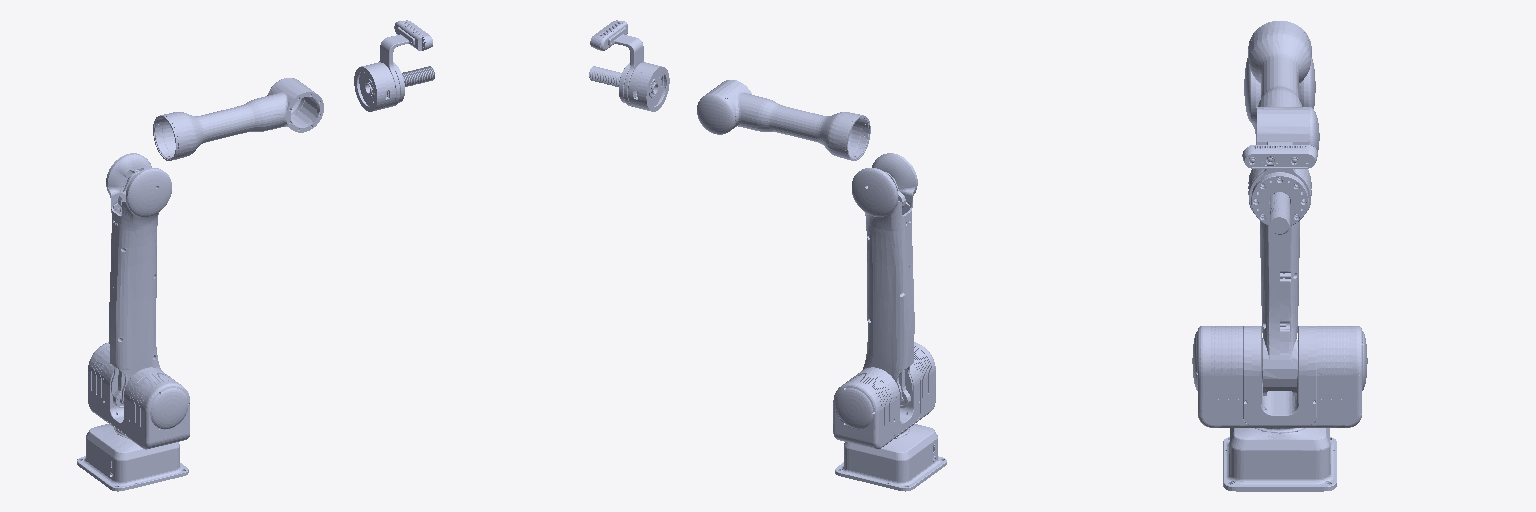
The robot description file, URDF, robot "wheel_quadruped_arm_robot":
<?xml version="1.0" ?>
<!-- =================================================================================== -->
<!-- |    This document was autogenerated by xacro from robot.xacro                    | -->
<!-- |    EDITING THIS FILE BY HAND IS NOT RECOMMENDED                                 | -->
<!-- =================================================================================== -->
<robot name="wheel_quadruped_arm_robot">
    <material name="black">
        <color rgba="0.0 0.0 0.0 1.0"/>
    </material>
    <material name="blue">
        <color rgba="0.0 0.0 0.8 1.0"/>
    </material>
    <material name="green">
        <color rgba="0.0 0.8 0.0 1.0"/>
    </material>
    <material name="grey">
        <color rgba="0.2 0.2 0.2 1.0"/>
    </material>
    <material name="silver">
        <color rgba="0.9137254901960784 0.9137254901960784 0.8470588235294118 1.0"/>
    </material>
    <material name="orange">
        <color rgba="1.0 0.4235294117647059 0.0392156862745098 1.0"/>
    </material>
    <material name="brown">
        <color rgba="0.8705882352941177 0.8117647058823529 0.7647058823529411 1.0"/>
    </material>
    <material name="red">
        <color rgba="0.8 0.0 0.0 1.0"/>
    </material>
    <material name="white">
        <color rgba="1.0 1.0 1.0 1.0"/>
    </material>
    <!-- ros_control plugin -->
    <gazebo>
        <plugin filename="liblegged_hw_sim.so" name="gazebo_ros_control">
            <robotNamespace>/</robotNamespace>
            <robotParam>wheel_quadruped_arm_robot_description</robotParam>
            <robotSimType>legged_gazebo/LeggedHWSim</robotSimType>
        </plugin>
    </gazebo>
    <gazebo>
        <plugin filename="libgazebo_ros_p3d.so" name="p3d_base_controller">
            <alwaysOn>true</alwaysOn>
            <updateRate>1000.0</updateRate>
            <bodyName>base</bodyName>
            <topicName>Odometry</topicName>
            <gaussianNoise>0</gaussianNoise>
            <frameName>world</frameName>
            <xyzOffsets>0 0 0</xyzOffsets>
            <rpyOffsets>0 0 0</rpyOffsets>
        </plugin>
    </gazebo>
    <gazebo reference="base_link">
        <maxVel>100.</maxVel>
        <kp>10000.</kp>
        <kd>0.</kd>
    </gazebo>
    <gazebo reference="stick_link">
        <mu1>0.2</mu1>
        <mu2>0.2</mu2>
        <material>Gazebo/White</material>
    </gazebo>
    <!-- LF leg -->
    <gazebo reference="LF_hip">
        <mu1>0.2</mu1>
        <mu2>0.2</mu2>
        <material>Gazebo/DarkGrey</material>
    </gazebo>
    <gazebo reference="LF_thigh">
        <mu1>0.2</mu1>
        <mu2>0.2</mu2>
        <self_collide>0</self_collide>
        <material>Gazebo/DarkGrey</material>
        <kp value="1000000.0"/>
        <kd value="1.0"/>
    </gazebo>
    <gazebo reference="LF_calf">
        <mu1>0.2</mu1>
        <mu2>0.2</mu2>
        <self_collide>1</self_collide>
    </gazebo>
    <gazebo reference="LF_wheel">
        <mu1>0.6</mu1>
        <mu2>0.6</mu2>
        <self_collide>1</self_collide>
        <material>Gazebo/DarkGrey</material>
        <kp value="1000000.0"/>
        <kd value="1.0"/>
    </gazebo>
    <!-- RF leg -->
    <gazebo reference="RF_hip">
        <mu1>0.2</mu1>
        <mu2>0.2</mu2>
        <material>Gazebo/DarkGrey</material>
    </gazebo>
    <gazebo reference="RF_thigh">
        <mu1>0.2</mu1>
        <mu2>0.2</mu2>
        <self_collide>0</self_collide>
        <material>Gazebo/DarkGrey</material>
        <kp value="1000000.0"/>
        <kd value="1.0"/>
    </gazebo>
    <gazebo reference="RF_calf">
        <mu1>0.2</mu1>
        <mu2>0.2</mu2>
        <self_collide>1</self_collide>
    </gazebo>
    <gazebo reference="RF_wheel">
        <mu1>0.6</mu1>
        <mu2>0.6</mu2>
        <self_collide>1</self_collide>
        <material>Gazebo/DarkGrey</material>
        <kp value="1000000.0"/>
        <kd value="1.0"/>
    </gazebo>
    <!-- LH leg -->
    <gazebo reference="LH_hip">
        <mu1>0.2</mu1>
        <mu2>0.2</mu2>
        <material>Gazebo/DarkGrey</material>
    </gazebo>
    <gazebo reference="LH_thigh">
        <mu1>0.2</mu1>
        <mu2>0.2</mu2>
        <self_collide>0</self_collide>
        <material>Gazebo/DarkGrey</material>
        <kp value="1000000.0"/>
        <kd value="1.0"/>
    </gazebo>
    <gazebo reference="LH_calf">
        <mu1>0.2</mu1>
        <mu2>0.2</mu2>
        <self_collide>1</self_collide>
    </gazebo>
    <gazebo reference="LH_wheel">
        <mu1>0.6</mu1>
        <mu2>0.6</mu2>
        <self_collide>1</self_collide>
        <material>Gazebo/DarkGrey</material>
        <kp value="1000000.0"/>
        <kd value="1.0"/>
    </gazebo>
    <!-- RH leg -->
    <gazebo reference="RH_hip">
        <mu1>0.2</mu1>
        <mu2>0.2</mu2>
        <material>Gazebo/DarkGrey</material>
    </gazebo>
    <gazebo reference="RH_thigh">
        <mu1>0.2</mu1>
        <mu2>0.2</mu2>
        <self_collide>0</self_collide>
        <material>Gazebo/DarkGrey</material>
        <kp value="1000000.0"/>
        <kd value="1.0"/>
    </gazebo>
    <gazebo reference="RH_calf">
        <mu1>0.2</mu1>
        <mu2>0.2</mu2>
        <self_collide>1</self_collide>
    </gazebo>
    <gazebo reference="RH_wheel">
        <mu1>0.6</mu1>
        <mu2>0.6</mu2>
        <self_collide>1</self_collide>
        <material>Gazebo/DarkGrey</material>
        <kp value="1000000.0"/>
        <kd value="1.0"/>
    </gazebo>
    <!-- limx arm -->
    <gazebo reference="limx_arm">
        <mu1>0.2</mu1>
        <mu2>0.2</mu2>
        <self_collide>1</self_collide>
        <material>Gazebo/DarkGrey</material>
    </gazebo>
    <gazebo reference="L1">
        <mu1>0.2</mu1>
        <mu2>0.2</mu2>
        <self_collide>1</self_collide>
        <material>Gazebo/DarkGrey</material>
    </gazebo>
    <gazebo reference="L2">
        <mu1>0.2</mu1>
        <mu2>0.2</mu2>
        <material>Gazebo/DarkGrey</material>
        <self_collide>1</self_collide>
    </gazebo>
    <gazebo reference="L3">
        <mu1>0.2</mu1>
        <mu2>0.2</mu2>
        <self_collide>1</self_collide>
        <material>Gazebo/DarkGrey</material>
    </gazebo>
    <gazebo reference="L4">
        <mu1>0.2</mu1>
        <mu2>0.2</mu2>
        <self_collide>1</self_collide>
        <material>Gazebo/DarkGrey</material>
    </gazebo>
    <gazebo reference="L5">
        <mu1>0.2</mu1>
        <mu2>0.2</mu2>
        <self_collide>1</self_collide>
        <material>Gazebo/DarkGrey</material>
    </gazebo>
    <gazebo reference="L6">
        <mu1>0.2</mu1>
        <mu2>0.2</mu2>
        <self_collide>1</self_collide>
        <material>Gazebo/DarkGrey</material>
    </gazebo>

    <!-- <link name="fixed_world"/>
    <joint name="fixed_base" type="fixed">
        <parent link="fixed_world"/>
        <child link="base"/>
        <origin rpy="0 0 0" xyz="0 0 0.5"/>
    </joint> -->

    <link name="base">
        <visual>
            <origin rpy="0 0 0" xyz="-0.0455 0 -0.07551"/>
            <geometry>
                <mesh filename="../meshes/wheel_quadruped/base_link.STL"
                      scale="1 1 1"/>
            </geometry>
            <material name="orange">
                <color rgba="0.752941176470588 0.752941176470588 0.752941176470588 1"/>
            </material>
        </visual>
        <collision>
            <origin rpy="0 0 0" xyz="-0.0455 0 -0.07551"/>
            <geometry>
                <box size="0.515 0.2635 0.151"/>
            </geometry>
        </collision>
        <inertial>
            <origin rpy="0 0 0" xyz="-0.042248 0.000914 -0.089046"/>
            <mass value="20.597"/>
            <inertia ixx="0.149401525" ixy="-0.000608481" ixz="0.011793831" iyy="0.735245026" iyz="-3.821e-06"
                     izz="0.770371789"/>
        </inertial>
    </link>
    <!-- Imu is fixed to the base link -->
    <joint name="limx_imu_joint" type="fixed">
        <origin rpy="0. 0. 0." xyz="0. 0. 0."/>
        <parent link="base"/>
        <child link="limx_imu"/>
    </joint>
    <!-- Imu link -->
    <link name="limx_imu">
        <inertial>
            <mass value="0.01"/>
            <origin rpy="0 0 0" xyz="0 0 0"/>
            <inertia ixx="0.000001" ixy="0" ixz="0" iyy="0.000001" iyz="0" izz="0.000001"/>
        </inertial>
        <visual>
            <origin rpy="0 0 0" xyz="0 0 0"/>
            <geometry>
                <box size="0.015 0.015 0.004"/>
            </geometry>
        </visual>
        <material name="orange">
            <color rgba="255 108 10 255"/>
        </material>
    </link>
    <gazebo reference="limx_imu">
        <material>Gazebo/Orange</material>
    </gazebo>
    <gazebo reference="limx_imu_joint">
        <disableFixedJointLumping>true</disableFixedJointLumping>
    </gazebo>

    <joint name="support_joint1" type="fixed">
        <origin rpy="0. 0. 0." xyz="0.15 0.1 -0.3"/>
        <parent link="base"/>
        <child link="support1"/>
    </joint>
    <!-- &lt;!&ndash; support link &ndash;&gt; -->
    <link name="support1">
        <collision>
            <origin rpy="0 0 0" xyz="0 0 0"/>
            <geometry>
                <box size="0.015 0.015 0.004"/>
            </geometry>
        </collision>
    </link>
    <joint name="support_joint2" type="fixed">
        <origin rpy="0. 0. 0." xyz="-0.25 0.1 -0.3"/>
        <parent link="base"/>
        <child link="support2"/>
    </joint>
    <!-- &lt;!&ndash; support link &ndash;&gt; -->
    <link name="support2">
        <collision>
            <origin rpy="0 0 0" xyz="0 0 0"/>
            <geometry>
                <box size="0.015 0.015 0.004"/>
            </geometry>
        </collision>
    </link>
    <joint name="support_joint3" type="fixed">
        <origin rpy="0. 0. 0." xyz="0.15 -0.1 -0.3"/>
        <parent link="base"/>
        <child link="support3"/>
    </joint>
    <!-- &lt;!&ndash; support link &ndash;&gt; -->
    <link name="support3">
        <collision>
            <origin rpy="0 0 0" xyz="0 0 0"/>
            <geometry>
                <box size="0.015 0.015 0.004"/>
            </geometry>
        </collision>
    </link>
    <joint name="support_joint4" type="fixed">
        <origin rpy="0. 0. 0." xyz="-0.25 -0.1 -0.3"/>
        <parent link="base"/>
        <child link="support4"/>
    </joint>
    <!--    &lt;!&ndash; support link &ndash;&gt;-->
    <link name="support4">
        <collision>
            <origin rpy="0 0 0" xyz="0 0 0"/>
            <geometry>
                <box size="0.015 0.015 0.004"/>
            </geometry>
        </collision>
    </link>

    <!-- TODO -->

    <joint name="limx_arm_joint" type="fixed">
        <origin rpy="0. 0. 0." xyz="0. 0. 0.0"/>
        <parent link="base"/>
        <child link="limx_arm"/>
    </joint>
    <gazebo reference="limx_arm_joint">
        <disableFixedJointLumping>true</disableFixedJointLumping>
    </gazebo>
    <link name="limx_arm">
    <inertial>
      <origin xyz="-0.004128 -0.000051246 0.0368" rpy="0 0 0" />
      <mass value="1.48" />
      <inertia
        ixx="0.001914"
        ixy="0.0000020344"
        ixz="-0.0000295375"
        iyy="0.0020328"
        iyz="-0.000002793"
        izz="0.0027009" />
    </inertial>
    <visual>
      <origin xyz="0 0 0" rpy="0 0 0" />
      <geometry>
        <mesh filename="../meshes/limx_arm/limx_arm.STL" />
      </geometry>
      <material name="">
        <color rgba="0.792156862745098 0.819607843137255 0.933333333333333 1" />
      </material>
    </visual>
    <collision>
      <origin xyz="0 0 0" rpy="0 0 0" />
      <geometry>
        <mesh filename="../meshes/limx_arm/limx_arm.STL" />
      </geometry>
    </collision>
  </link>

  <joint name="J1" type="revolute">
    <origin xyz="0 0 0" rpy="0 0 0" />
    <parent link="limx_arm" />
    <child link="L1" />
    <axis xyz="0 0 1" />
    <limit lower="-2.97" upper="2.97" effort="75" velocity="38"/>
  </joint>
  <link name="L1">
    <inertial>
      <origin xyz="0.000648785026826915 -1.75983803181417E-05 0.113408403959065" rpy="0 0 0" />
      <mass value="2.38" />
      <inertia
        ixx="0.009788"
        ixy="-0.0000009855"
        ixz="0.0000002033"
        iyy="0.002622"
        iyz="0.000001297"
        izz="0.009287" />
    </inertial>
    <visual>
      <origin xyz="0 0 0" rpy="0 0 0" />
      <geometry>
        <mesh filename="../meshes/limx_arm/L1.STL" />
      </geometry>
      <material name="">
        <color rgba="0.792156862745098 0.819607843137255 0.933333333333333 1" />
      </material>
    </visual>
    <collision>
      <origin xyz="0 0 0" rpy="0 0 0" />
      <geometry>
        <mesh filename="../meshes/limx_arm/L1.STL" />
      </geometry>
    </collision>
  </link>
  

    <joint name="J2" type="revolute">
        <origin xyz="0 0.016 0.14357" rpy="1.5708 0 0" />
        <parent link="L1" />
        <child link="L2" />
        <axis xyz="0 0 1" />
        <limit lower="-1.57" upper="1.57" effort="75" velocity="38"/>
    </joint>
    <link name="L2">
    <inertial>
      <origin xyz="0.0004947 0.1533 0.0162" rpy="0 0 0" />
      <mass value="1.11" />
      <inertia
        ixx="0.01598"
        ixy="0.001113"
        ixz="0.0000004144"
        iyy="0.0017036"
        iyz="0.00003257"
        izz="0.01703" />
    </inertial>
    <visual>
      <origin xyz="0 0 0" rpy="0 0 0" />
      <geometry>
        <mesh filename="../meshes/limx_arm/L2.STL" />
      </geometry>
      <material name="">
        <color rgba="0.792156862745098 0.819607843137255 0.933333333333333 1" />
      </material>
    </visual>
    <collision>
      <origin xyz="0 0 0" rpy="0 0 0" />
      <geometry>
        <mesh filename="../meshes/limx_arm/L2.STL" />
      </geometry>
    </collision>
  </link>
  
  <joint name="J3" type="revolute">
    <origin xyz="-0.022268 0.33734 0.01075" rpy="-3.1416 0 0" />
    <parent link="L2" />
    <child link="L3" />
    <axis xyz="0 0 1" />
    <limit lower="-1.57" upper="1.57" effort="75" velocity="38"/>
  </joint>
  <link name="L3">
    <inertial>
      <origin xyz="0.02491 -0.06391 -0.00006043" rpy="0 0 0" />
      <mass value="1.103" />
      <inertia
        ixx="0.006705"
        ixy="0.003738"
        ixz="-0.000001251"
        iyy="0.003389"
        iyz="0.000003847"
        izz="0.009415" />
    </inertial>
    <visual>
      <origin xyz="0 0 0" rpy="0 0 0" />
      <geometry>
        <mesh filename="../meshes/limx_arm/L3.STL" />
      </geometry>
      <material name="">
        <color rgba="0.792156862745098 0.819607843137255 0.933333333333333 1" />
      </material>
    </visual>
    <collision>
      <origin xyz="0 0 0" rpy="0 0 0" />
      <geometry>
        <mesh filename="../meshes/limx_arm/L3.STL" />
      </geometry>
    </collision>
  </link>
  
  <joint name="J4" type="revolute">
    <origin xyz="0.069334 -0.09437 -0.00525" rpy="-1.5708 0 -1.5708" />
    <parent link="L3" />
    <child link="L4" />
    <axis xyz="0 0 1" />
    <limit lower="-1.57" upper="1.57" effort="20" velocity="38"/>
  </joint>
  <link name="L4">
    <inertial>
      <origin xyz="-0.01475 0.0037164 0.1791" rpy="0 0 0" />
      <mass value="1.023" />
      <inertia
        ixx="0.016036"
        ixy="-0.00005644"
        ixz="-0.0070774"
        iyy="0.021476"
        iyz="-0.0002585"
        izz="0.0061840" />
    </inertial>
    <visual>
      <origin xyz="0 0 0" rpy="0 0 0" />
      <geometry>
        <mesh filename="../meshes/limx_arm/L4.STL" />
      </geometry>
      <material name="">
        <color rgba="0.792156862745098 0.819607843137255 0.933333333333333 1" />
      </material>
    </visual>
    <collision>
      <origin xyz="0 0 0" rpy="0 0 0" />
      <geometry>
        <mesh filename="../meshes/limx_arm/L4.STL" />
      </geometry>
    </collision>
  </link>
  
  <joint name="J5" type="revolute">
    <origin xyz="4.5361E-05 0.027651 0.24727" rpy="1.5708 0.017983 0" />
    <parent link="L4" />
    <child link="L5" />
    <axis xyz="0 0 1" />
    <limit lower="-1.57" upper="1.57" effort="20" velocity="38"/>
  </joint>
  <link name="L5">
    <inertial>
      <origin xyz="0.000020753 0.086297 0.022865" rpy="0 0 0" />
      <mass value="0.872" />
      <inertia
        ixx="0.0015493"
        ixy="-0.0000003432"
        ixz="-0.00000008541"
        iyy="0.0006772"
        iyz="-0.0003375"
        izz="0.001456" />
    </inertial>
    <visual>
      <origin xyz="0 0 0" rpy="0 0 0" />
      <geometry>
        <mesh filename="../meshes/limx_arm/L5.STL" />
      </geometry>
      <material name="">
        <color rgba="0.792156862745098 0.819607843137255 0.933333333333333 1" />
      </material>
    </visual>
    <collision>
      <origin xyz="0 0 0" rpy="0 0 0" />
      <geometry>
        <mesh filename="../meshes/limx_arm/L5.STL" />
      </geometry>
    </collision>
  </link>

  <joint name="J6" type="revolute">
    <origin xyz="-0.0022853 0.12843 0.027657" rpy="-1.5708 0 0.017727" />
    <parent link="L5" />
    <child link="L6" />
    <axis xyz="0 0 1" />
    <limit lower="-1.57" upper="1.57" effort="20" velocity="38"/>
  </joint>
  <link name="L6">
    <inertial>
      <origin xyz="-0.00003796 0.00003159 0.04447" rpy="0 0 0" />
      <mass value="0.668" />
      <inertia
        ixx="0.0004931"
        ixy="0.00000004076"
        ixz="-0.000000857"
        iyy="0.0004929"
        iyz="0.0000004817"
        izz="0.0004169" />
    </inertial>
    <visual>
      <origin xyz="0 0 0" rpy="0 0 0" />
      <geometry>
        <mesh filename="../meshes/limx_arm/L6.STL" />
      </geometry>
      <material name="">
        <color rgba="0.792156862745098 0.819607843137255 0.933333333333333 1" />
      </material>
    </visual>
    <collision>
      <origin xyz="0 0 0" rpy="0 0 0" />
      <geometry>
        <mesh filename="../meshes/limx_arm/L6.STL" />
      </geometry>
    </collision>
  </link>
</robot>

--- Render facts (derived) ---
The picture shows the robot from 3 angles, left to right: view 1: azimuth 30°, elevation 25°; view 2: azimuth 150°, elevation 25°; view 3: azimuth 270°, elevation 25°; orthographic projection.
Robot: wheel_quadruped_arm_robot — 13 links, 12 joints (6 revolute, 6 fixed); root link base; default pose: all joints at 0.
Links seen in each view (by area): view 1: L2, L1, L4, limx_arm, L6; view 2: L2, L1, L4, limx_arm, L6; view 3: L1, L2, limx_arm, L4, L6.
Boxes of the visible links, <box> form: L2: <box>106,153,171,407</box>; L1: <box>88,342,189,449</box>; L4: <box>153,78,323,160</box>; limx_arm: <box>77,424,188,491</box>; L6: <box>354,20,434,111</box>; L2: <box>852,153,917,407</box>; L1: <box>833,342,935,449</box>; L4: <box>697,80,870,160</box>; limx_arm: <box>835,424,946,491</box>; L6: <box>589,20,669,111</box>; L1: <box>1192,326,1367,432</box>; L2: <box>1244,58,1315,395</box>; limx_arm: <box>1223,428,1336,491</box>; L4: <box>1248,21,1319,151</box>; L6: <box>1242,141,1317,234</box>.
Bounding box of the posed robot: 0.63 × 0.2085 × 0.6653 m (x, y, z).
5 mesh visuals loaded from 8 distinct referenced files (5 binary STL); not drawn: 3 (reference not matched to a file when rendering).